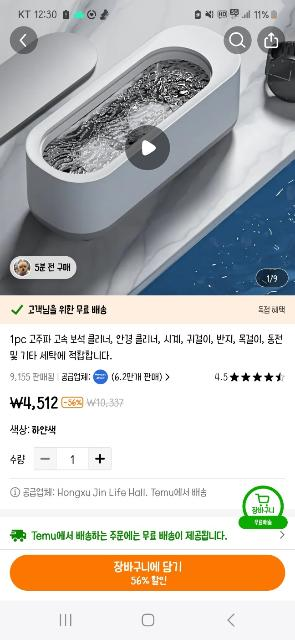BackgroundImage: (0, 0, 295, 294)
Icon: (230, 373, 286, 383), (10, 529, 26, 541), (256, 494, 270, 506), (11, 304, 23, 316), (10, 487, 20, 498), (96, 454, 104, 464), (280, 530, 286, 540), (40, 457, 52, 461), (164, 373, 169, 381)
Image: (14, 260, 31, 276), (94, 370, 108, 384)
ImageButton: (124, 124, 170, 170), (256, 26, 286, 54), (9, 26, 38, 54), (224, 26, 253, 54)
Text: (10, 334, 284, 360), (31, 530, 226, 542), (24, 488, 206, 498), (115, 560, 184, 586), (10, 396, 124, 409), (28, 304, 106, 316), (10, 372, 90, 382), (9, 424, 54, 436), (112, 372, 162, 382), (35, 262, 71, 272), (260, 306, 284, 314), (10, 454, 26, 464), (252, 507, 274, 513), (268, 274, 278, 282), (215, 374, 226, 381), (256, 520, 272, 524), (72, 454, 74, 466)
TextButton: (10, 554, 284, 590)
TextImageButton: (240, 486, 288, 528)
UpperTaskBar: (0, 0, 295, 22)
